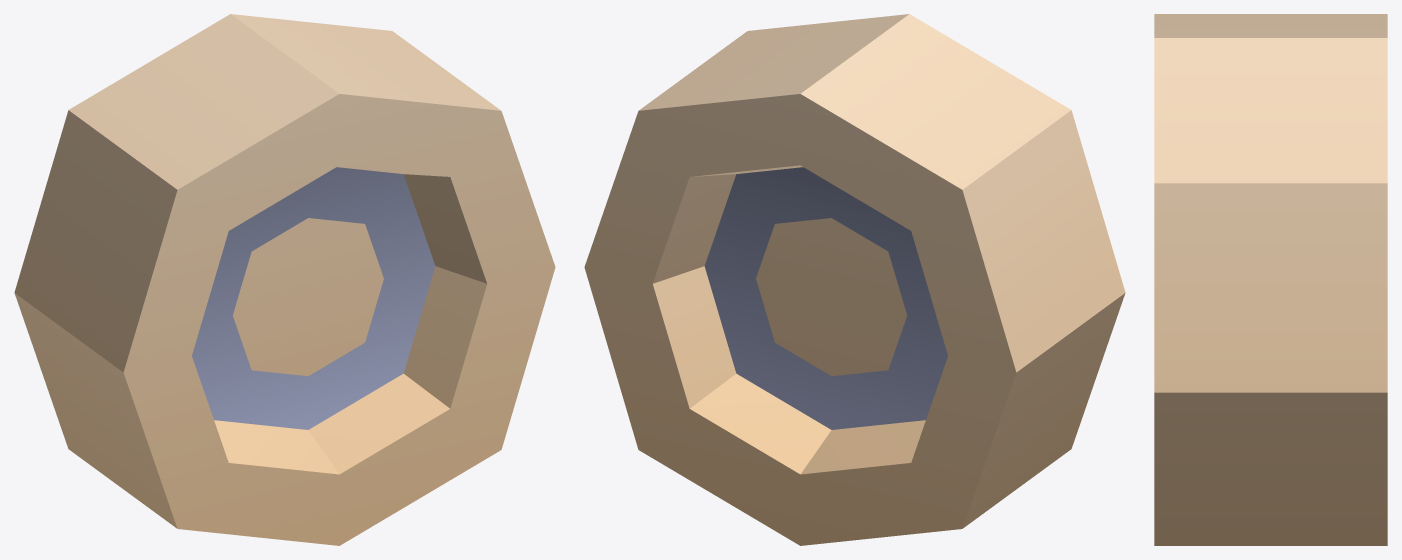
File: coin-gold.glb
3 views of the same model, side by side, from view 1: azimuth 30°, elevation 25°; view 2: azimuth 150°, elevation 25°; view 3: azimuth 270°, elevation 25° (orthographic). The views are drawn at different scales.
Parts seen in each view (by area): view 1: coin-gold; view 2: coin-gold; view 3: coin-gold.
Boxes of the visible parts, x1,y1,x2,y2 form: coin-gold: (14,14,555,545); coin-gold: (584,14,1125,545); coin-gold: (1154,14,1387,545).
Bounding box in the file's own units: 0.4 × 0.4 × 0.175.
